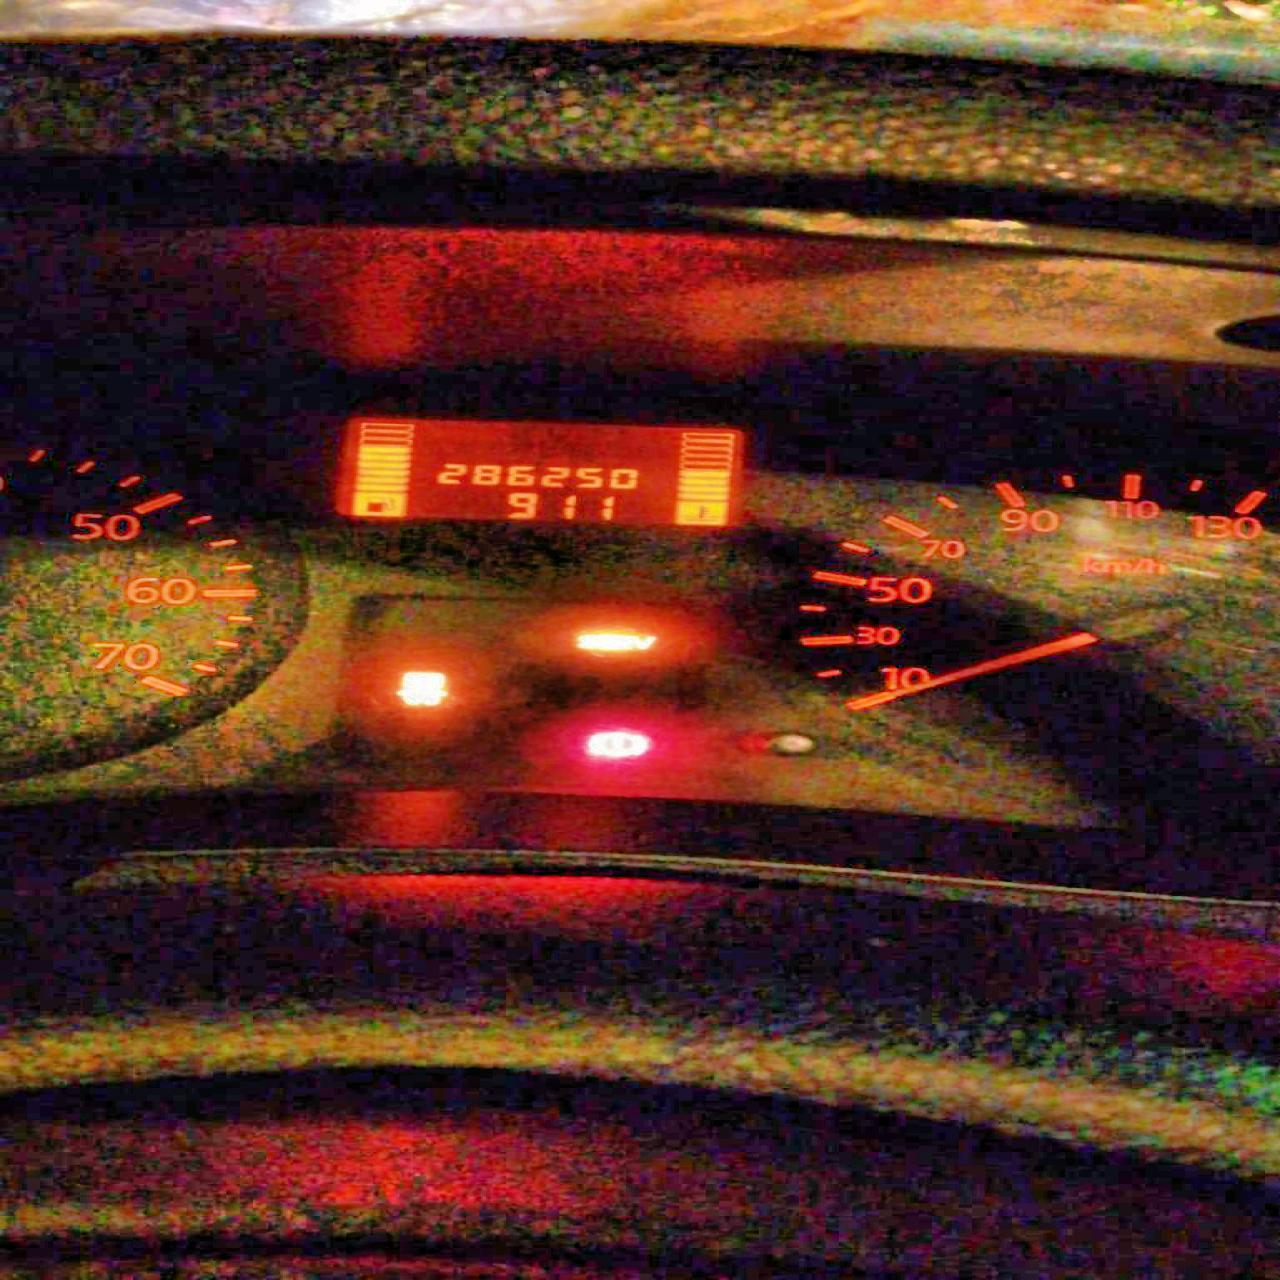0: (606, 468, 638, 489)
1: (599, 495, 614, 520), (561, 493, 576, 518)
2: (434, 462, 465, 484), (538, 465, 570, 488)
5: (572, 467, 602, 488)
6: (504, 464, 535, 485)
8: (469, 464, 501, 485)
9: (504, 492, 538, 518)
odometer: (329, 414, 745, 529)
